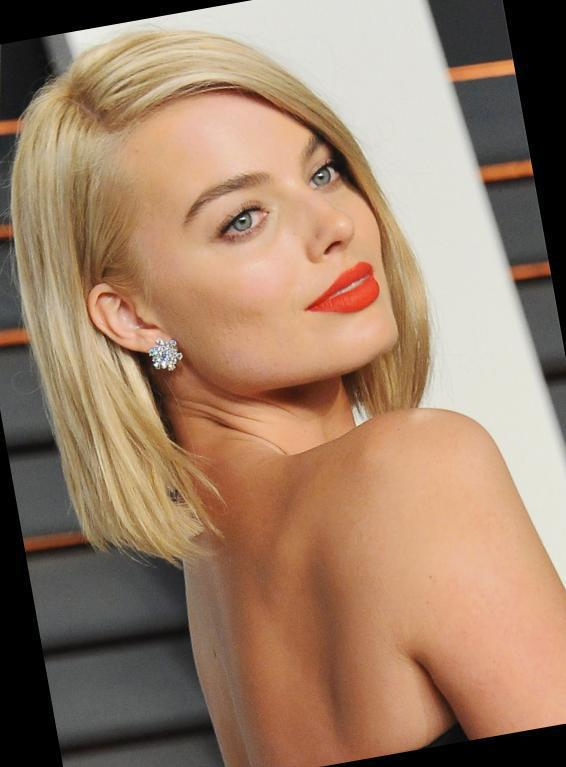Sober: (147, 115, 385, 356)
